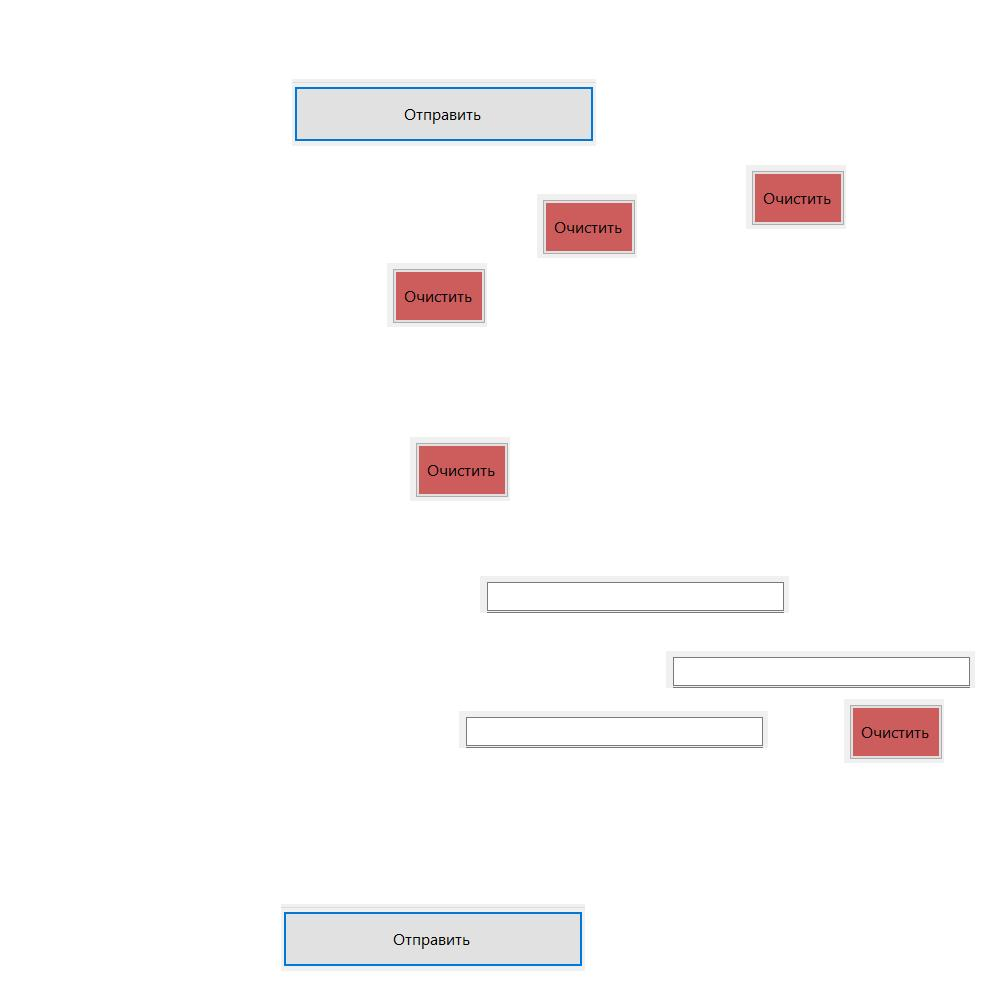Button: (281, 904, 585, 971), (292, 79, 596, 146), (844, 699, 944, 763), (537, 194, 637, 258), (410, 437, 510, 501), (387, 263, 487, 327), (746, 165, 846, 229)
EditText-: (480, 576, 789, 613), (666, 651, 975, 688), (459, 711, 768, 748)
